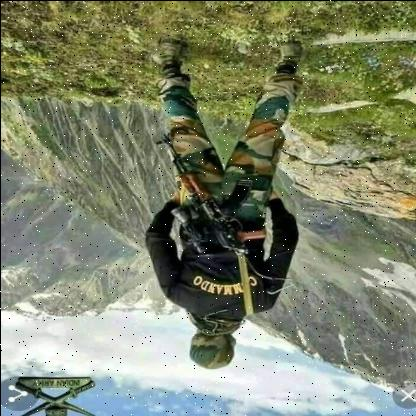rifle: (153, 132, 269, 256)
